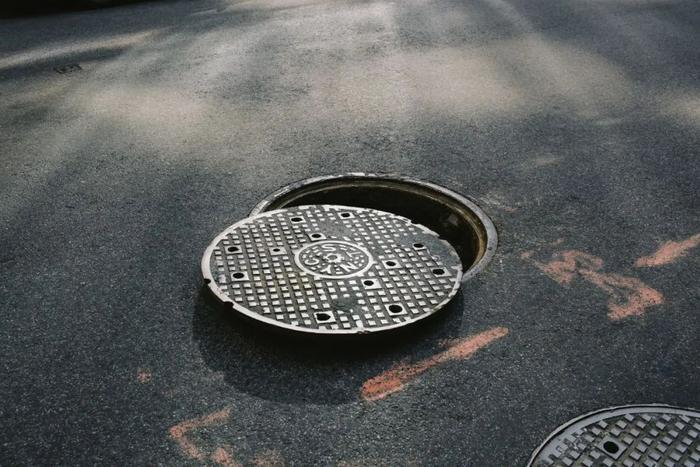wellcover: (207, 158, 516, 356)
